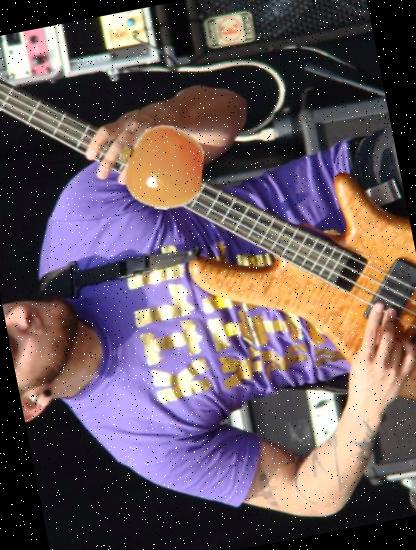Physalis: (111, 116, 211, 217)
